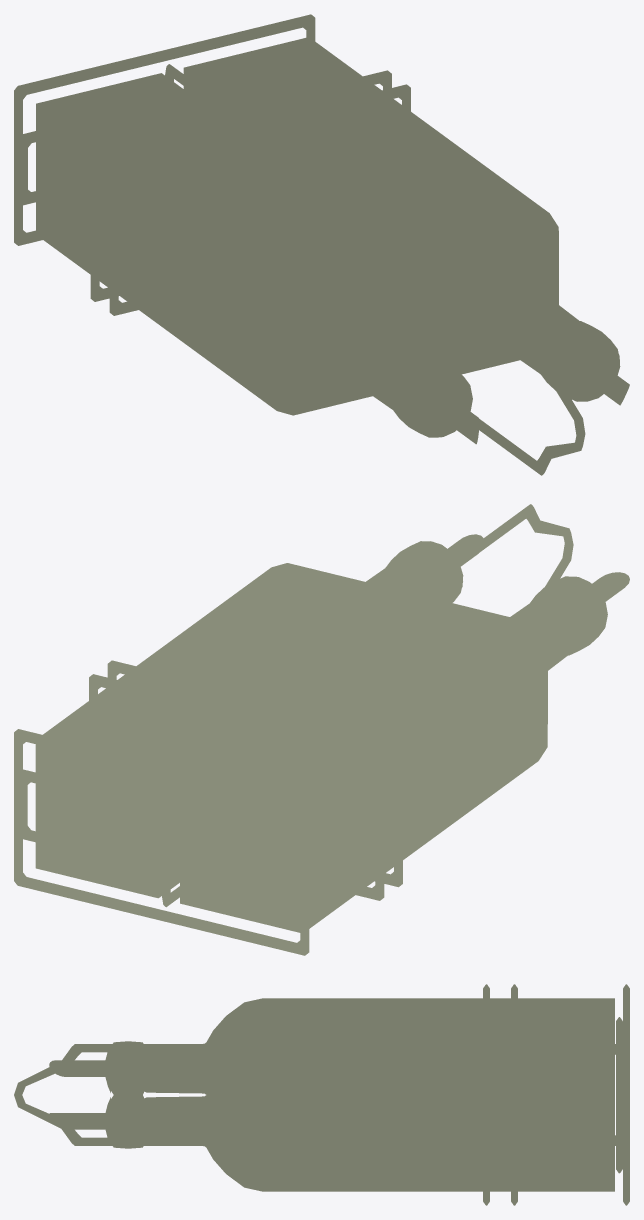
Rendered from oilservers1.dae.
3 renders of one model, top to bottom at view 1: azimuth 30°, elevation 25°; view 2: azimuth 150°, elevation 25°; view 3: azimuth 270°, elevation 25°, orthographic. The views are drawn at different scales.
Parts seen in each view (by area): view 1: STL object-0; view 2: STL object-0; view 3: STL object-0.
Boxes of the visible parts, x1,y1,x2,y2 form: STL object-0: (14,14,629,475); STL object-0: (14,504,629,955); STL object-0: (14,984,629,1205).
Size of the model in its own units: 0.0614 by 0.0311 by 0.1488.
